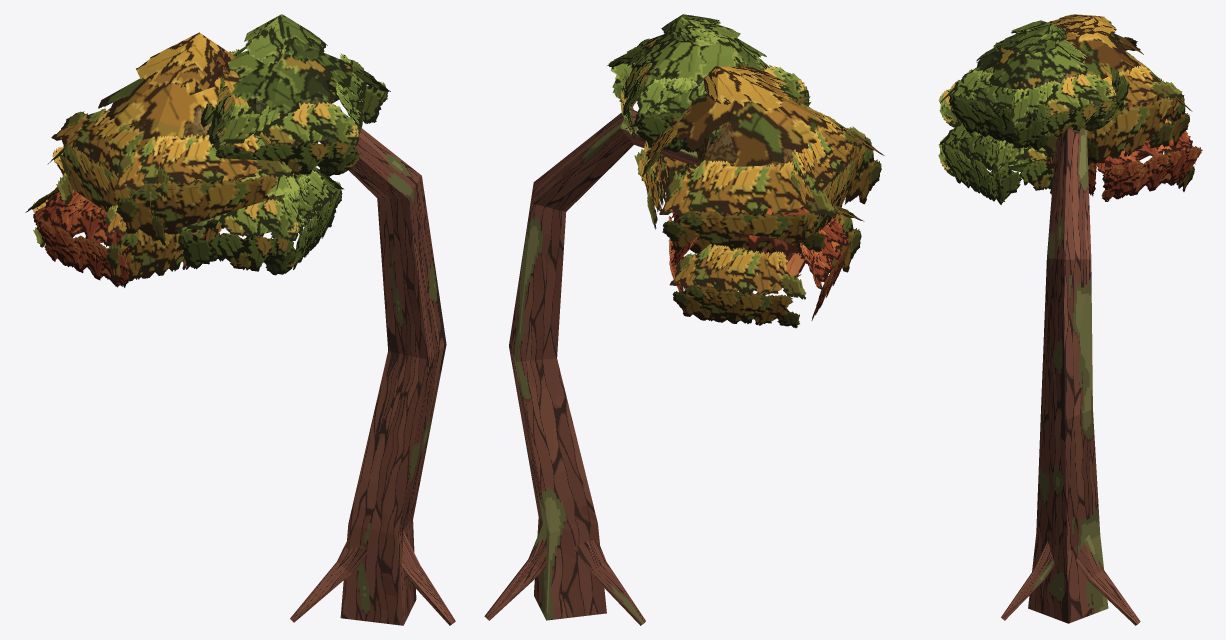
File: SM_TR08_YoungBow.fbx
The picture shows the model from 3 angles, left to right: view 1: azimuth 30°, elevation 25°; view 2: azimuth 150°, elevation 25°; view 3: azimuth 270°, elevation 25°; orthographic projection. The views are drawn at different scales.
Parts seen in each view (by area): view 1: TR08_Crown, TR08_Bark; view 2: TR08_Crown, TR08_Bark; view 3: TR08_Crown, TR08_Bark.
Part boxes in pixels (bbox=[...]): TR08_Crown: bbox=[25, 14, 390, 287]; TR08_Bark: bbox=[290, 104, 455, 625]; TR08_Crown: bbox=[607, 14, 884, 328]; TR08_Bark: bbox=[484, 109, 699, 625]; TR08_Crown: bbox=[938, 14, 1202, 204]; TR08_Bark: bbox=[1001, 128, 1140, 625].
Size of the model in its own units: 2.29 by 3.61 by 1.72.
